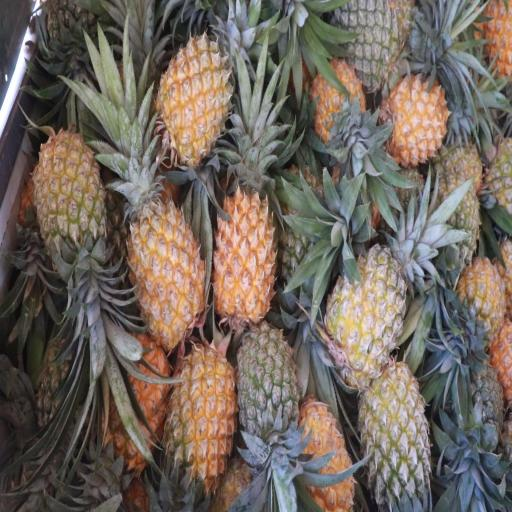------------------------------: (358, 366, 427, 511), (328, 250, 402, 380)
Pineapple - v8 v1: (127, 180, 203, 348), (37, 134, 104, 278), (158, 40, 231, 166), (169, 346, 234, 485), (212, 186, 273, 334), (109, 341, 172, 462), (297, 404, 356, 510), (387, 75, 446, 161), (309, 65, 365, 152), (451, 253, 502, 345)
